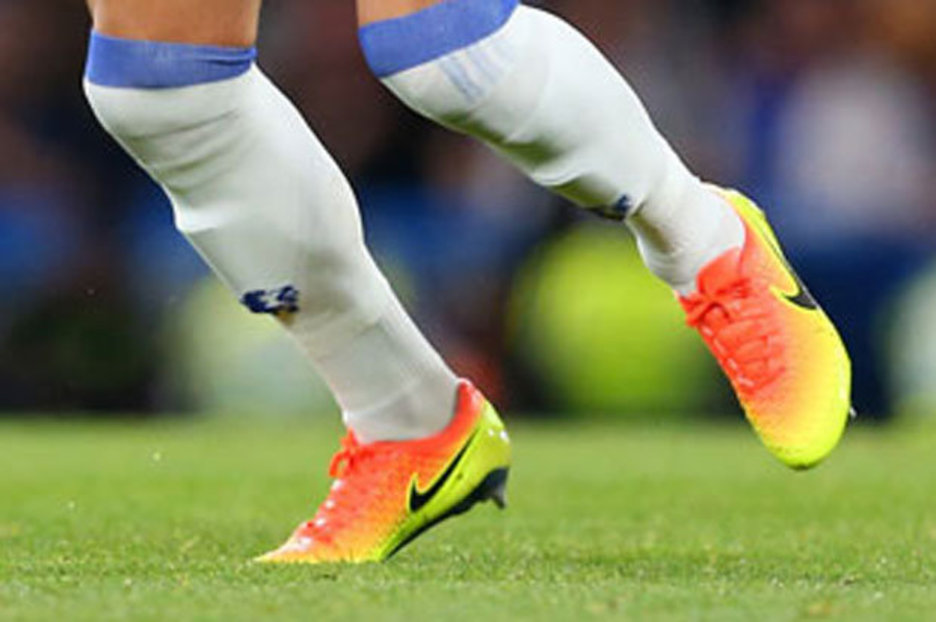football boots: (669, 193, 852, 471), (251, 381, 514, 562)
